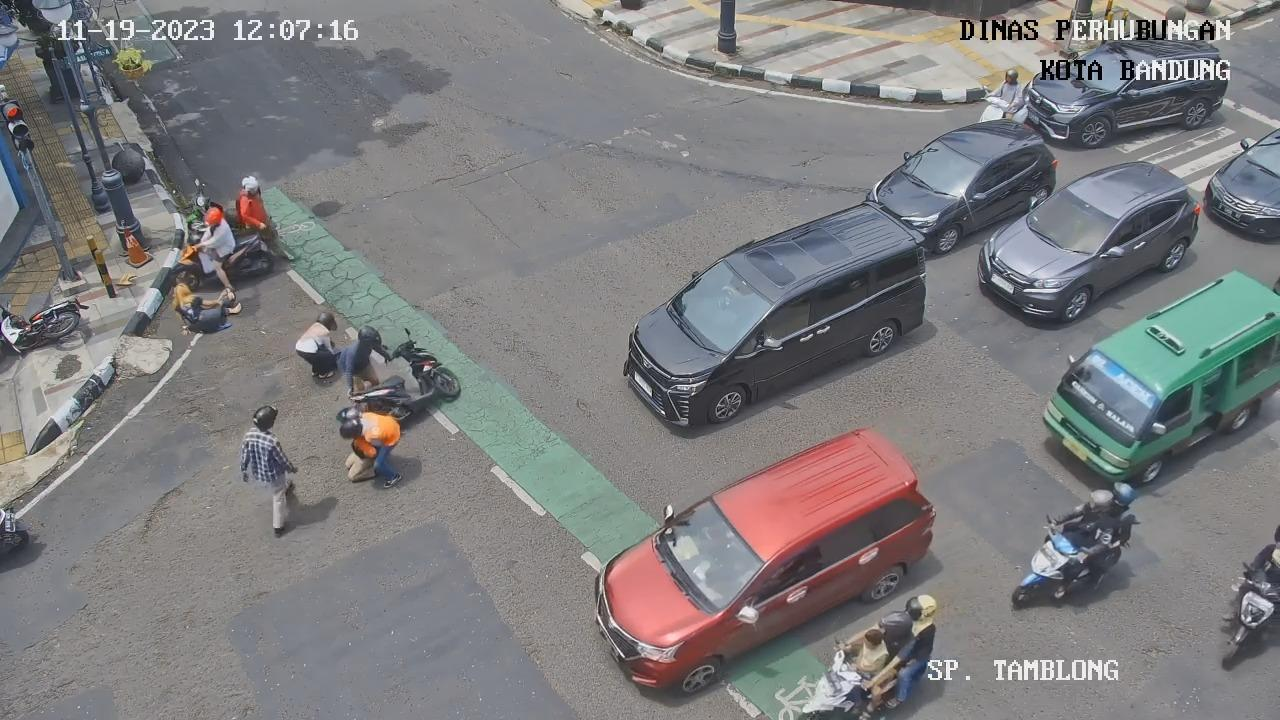accident: (166, 275, 243, 341)
